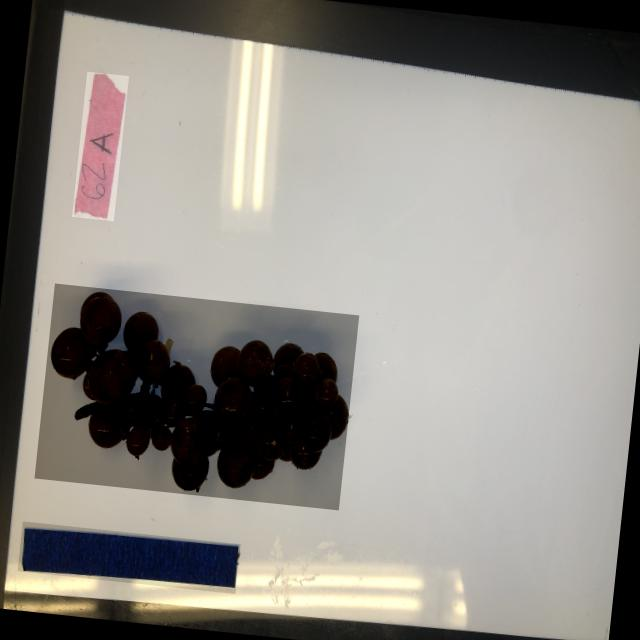grape_cluster: (34, 282, 359, 508)
index: (72, 70, 128, 220)
measure_label: (18, 520, 240, 592)
